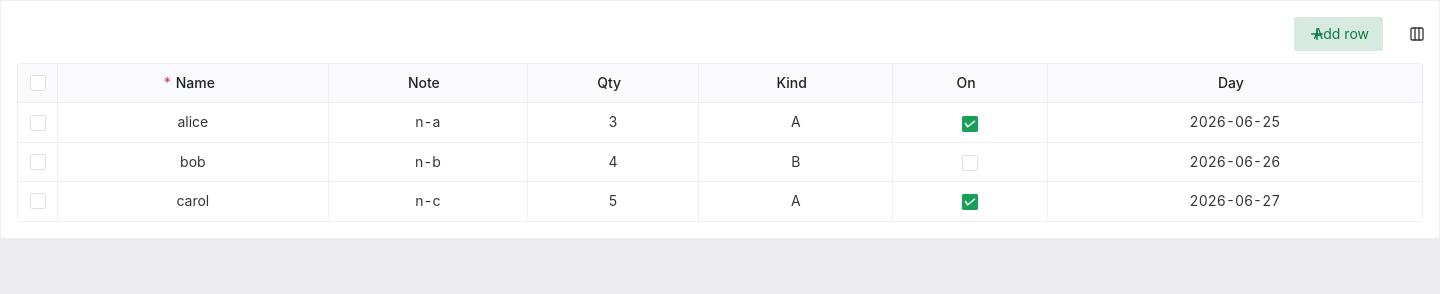
Test: 新增行:位置与自动聚焦 › 新增后直接进入编辑的是「第一个必填且为空的格」(没有就第一个为空的可编辑格,再没有才是第一个可编辑格)
Click the button "Add row" at (1338, 34), box left=1294, top=17, right=1383, bottom=51
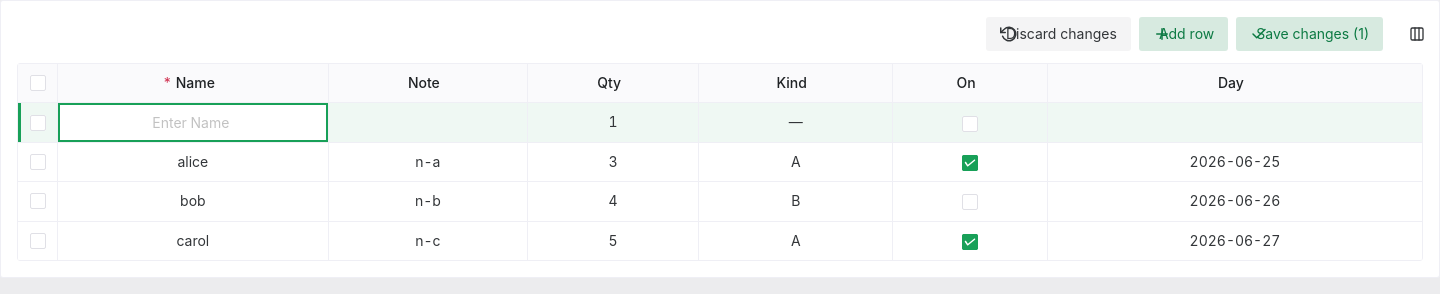
Now the element with class "smart-table-xe" is shown, box left=58, top=103, right=328, bottom=142
